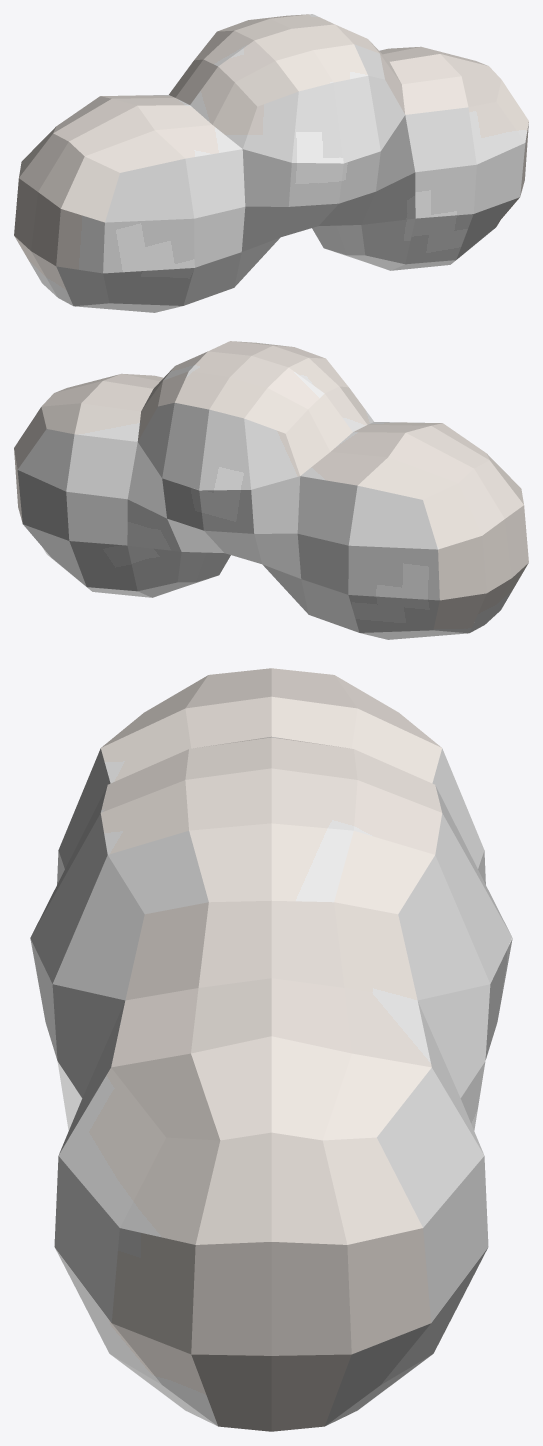
File: CloudType#1.glb
3 views of the same model, one above another, from view 1: azimuth 30°, elevation 25°; view 2: azimuth 150°, elevation 25°; view 3: azimuth 270°, elevation 25° (orthographic). The views are drawn at different scales.
Parts seen in each view (by area): view 1: Cloud_Type1; view 2: Cloud_Type1; view 3: Cloud_Type1.
Boxes of the visible parts, <box> form: Cloud_Type1: <box>14,14,528,312</box>; Cloud_Type1: <box>14,341,528,639</box>; Cloud_Type1: <box>30,668,512,1431</box>.
Bounding box in the file's own units: 1.3 × 0.6702 × 0.5639.
1 material, 1 textured.
